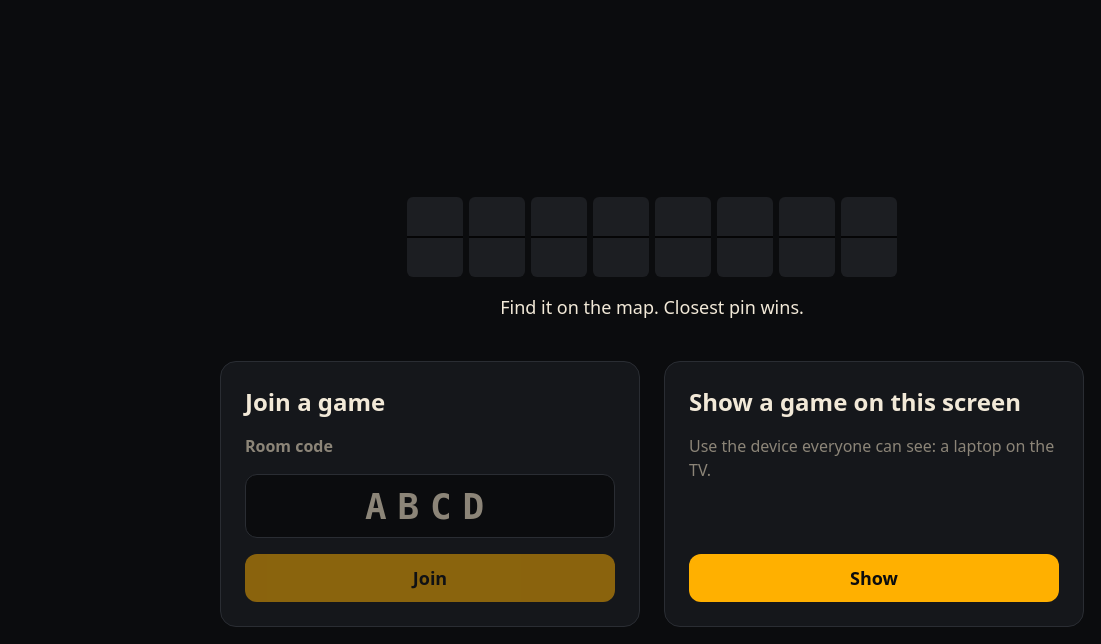
Landing › Show creates a room and opens /screen/:code
The image size is (1101, 644).
Click the button "Show". click: (874, 578)
box: x1=689 y1=554 x2=1059 y2=602
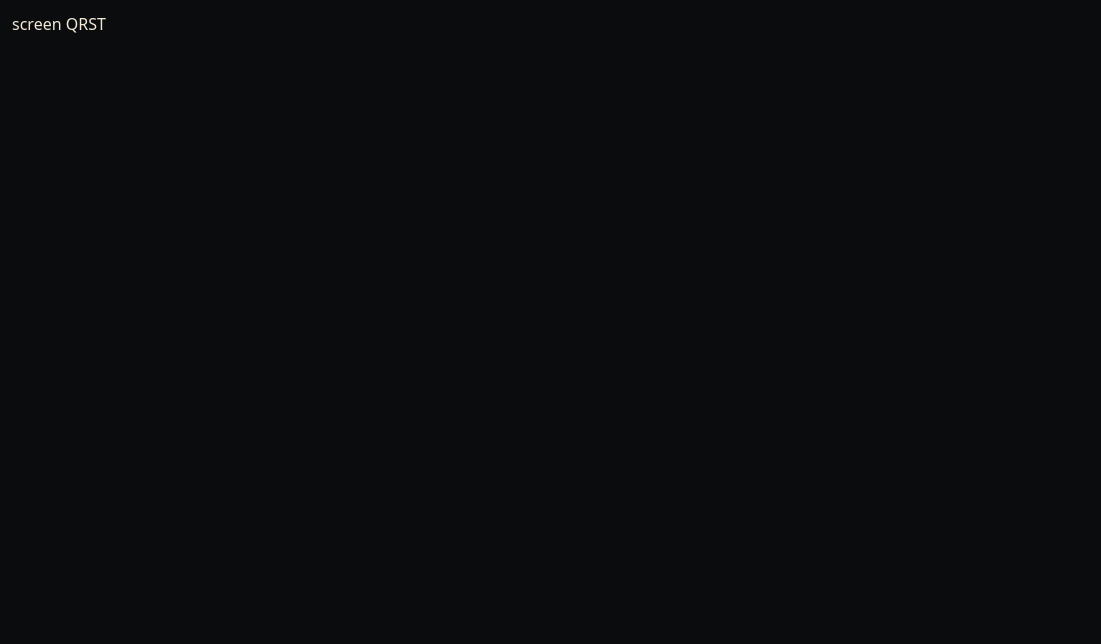
Check: the text "screen QRST" is shown, box x1=12 y1=13 x2=106 y2=35
